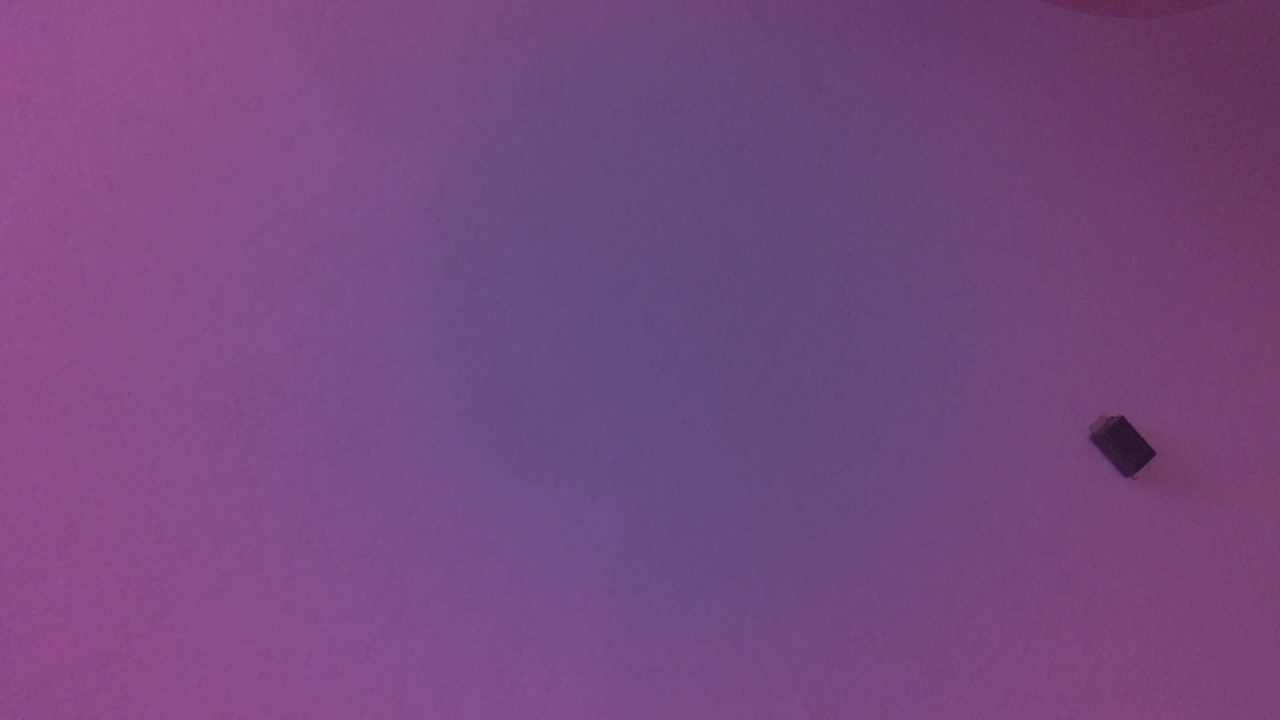Diode: (1094, 411, 1163, 490)
